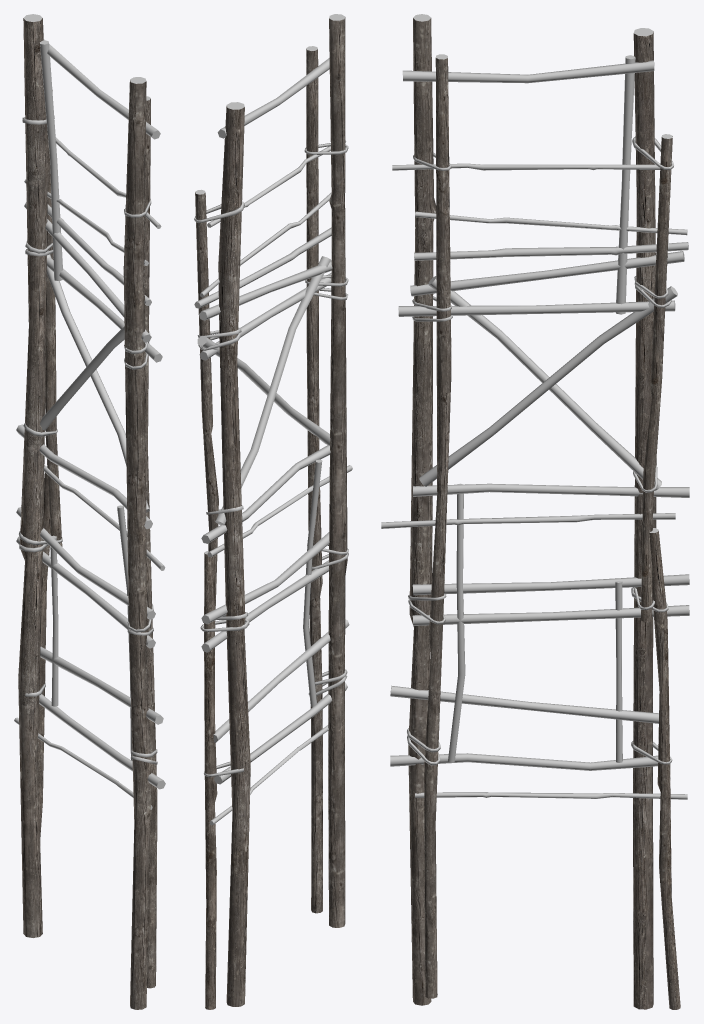
Rendered from Scaff4.fbx.
The picture shows the model from 3 angles, left to right: view 1: azimuth 30°, elevation 25°; view 2: azimuth 150°, elevation 25°; view 3: azimuth 270°, elevation 25°; orthographic projection. The views are drawn at different scales.
Parts seen in each view (by area): view 1: polySurface1322; view 2: polySurface1322; view 3: polySurface1322.
Part boxes in pixels (x1,y1,x2,y2): polySurface1322: (14,14,165,1009); polySurface1322: (194,14,352,1009); polySurface1322: (381,14,689,1009).
Bounding box in the file's own units: 0.4363 × 8.64 × 2.44.
